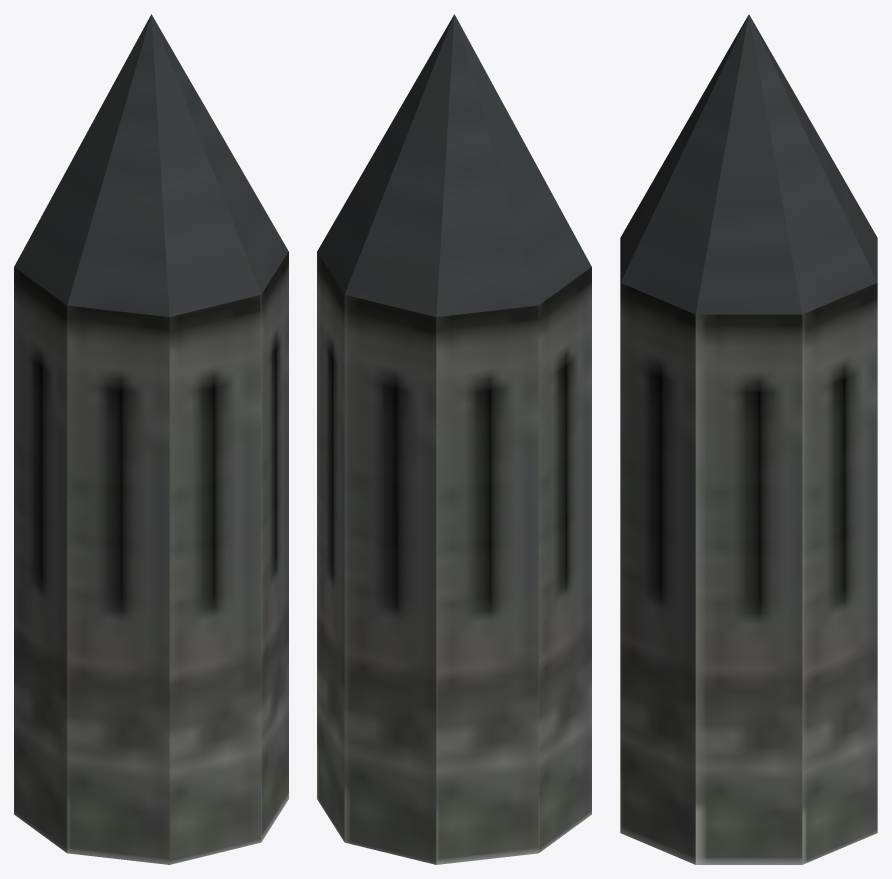
The model's file is euroB_06.glb.
3 renders of one model, left to right at view 1: azimuth 30°, elevation 25°; view 2: azimuth 150°, elevation 25°; view 3: azimuth 270°, elevation 25°, orthographic.
Visible parts, largest first — view 1: geometry_0; view 2: geometry_0; view 3: geometry_0.
Boxes of the visible parts, <box> form: geometry_0: <box>14,14,288,864</box>; geometry_0: <box>317,14,591,864</box>; geometry_0: <box>620,14,877,864</box>.
Size of the model in its own units: 1.3 by 4.44 by 1.3.
Materials: 1 (1 with a texture image).
